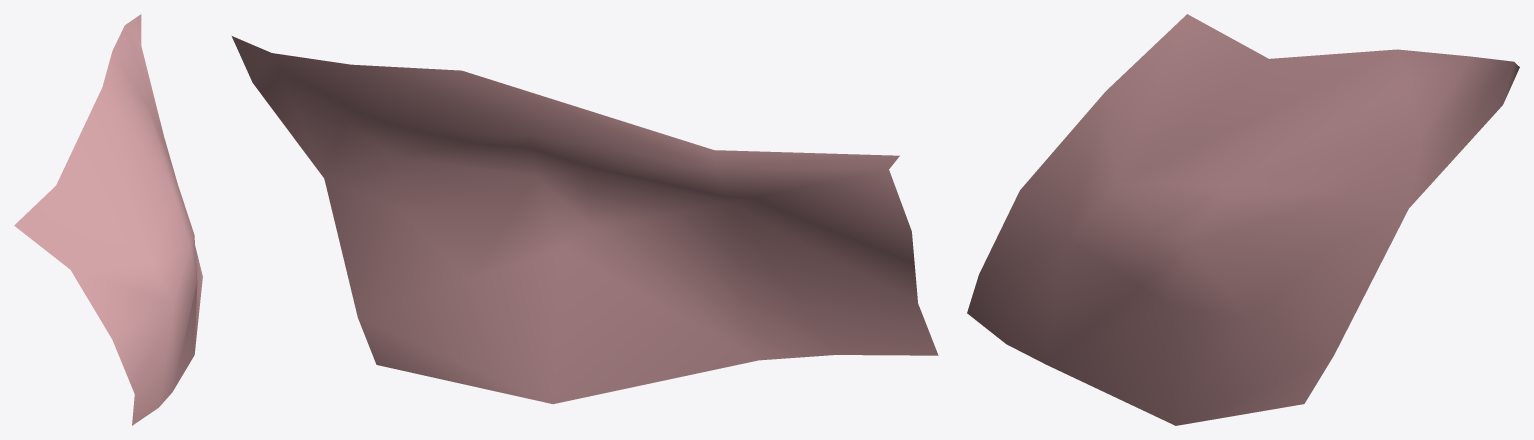
3 views of the same model, side by side, from view 1: azimuth 30°, elevation 25°; view 2: azimuth 150°, elevation 25°; view 3: azimuth 270°, elevation 25° (orthographic). The views are drawn at different scales.
Parts seen in each view (by area): view 1: ZA_e233adf5a7b001a2; view 2: ZA_e233adf5a7b001a2; view 3: ZA_e233adf5a7b001a2.
Part boxes in pixels (x1=…): ZA_e233adf5a7b001a2: x1=14, y1=14, x2=202, y2=425; ZA_e233adf5a7b001a2: x1=231, y1=36, x2=938, y2=404; ZA_e233adf5a7b001a2: x1=967, y1=14, x2=1519, y2=425.
Bounding box in the file's own units: 0.0108 × 0.0111 × 0.0139.
